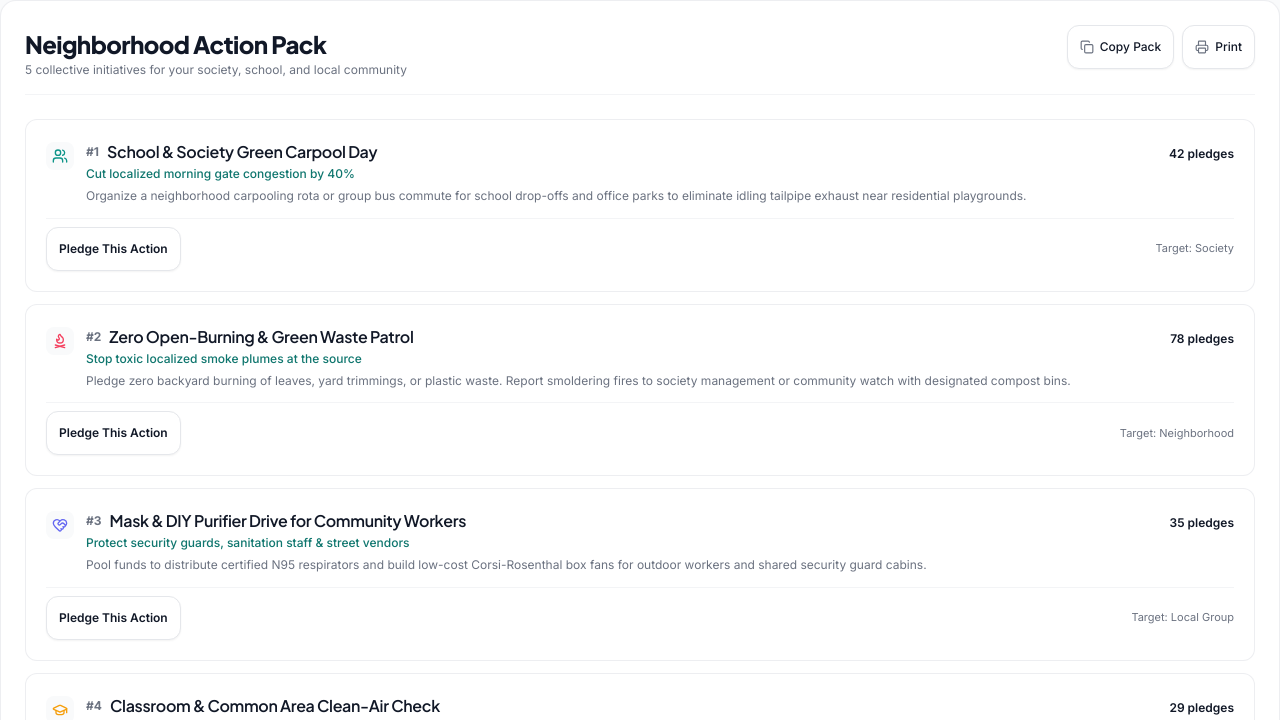
Test case: Feature Sections Suite › CommunityModeSection › renders neighborhood action pack and allows pledging
The width and height of the screenshot is (1280, 720).
Expected: the heading "Neighborhood Action Pack" is shown, [25, 29, 326, 59]
Expected: the heading "School & Society Green Carpool Day" is shown, [107, 140, 377, 164]
Click the button "Pledge This Action" below "School & Society Green Carpool Day": (113, 248) [46, 226, 181, 270]
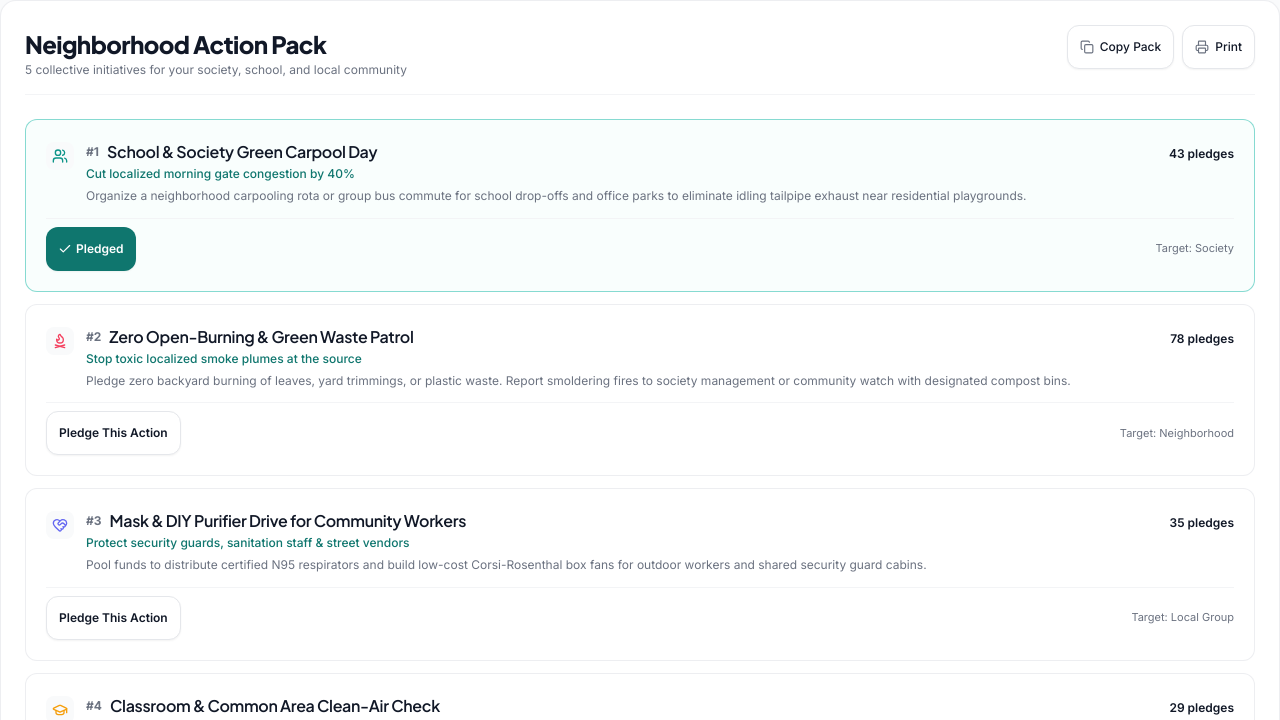
Expected: the button "Pledged" is shown, [46, 226, 136, 270]
